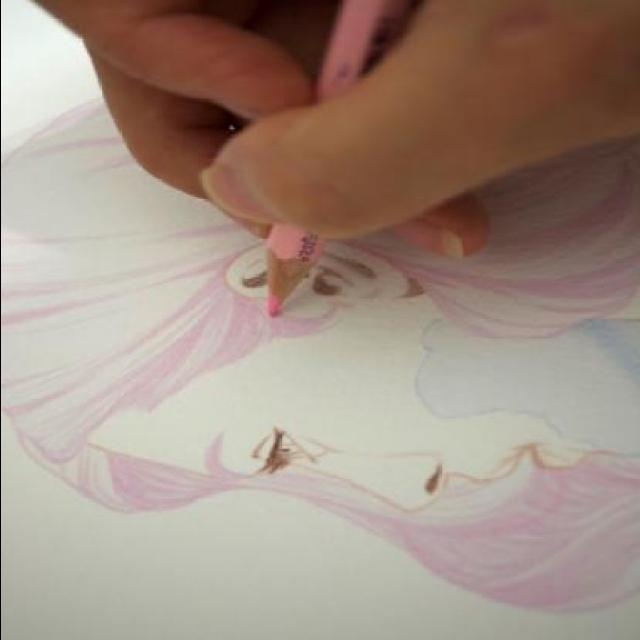pencil: (244, 237, 324, 321)
